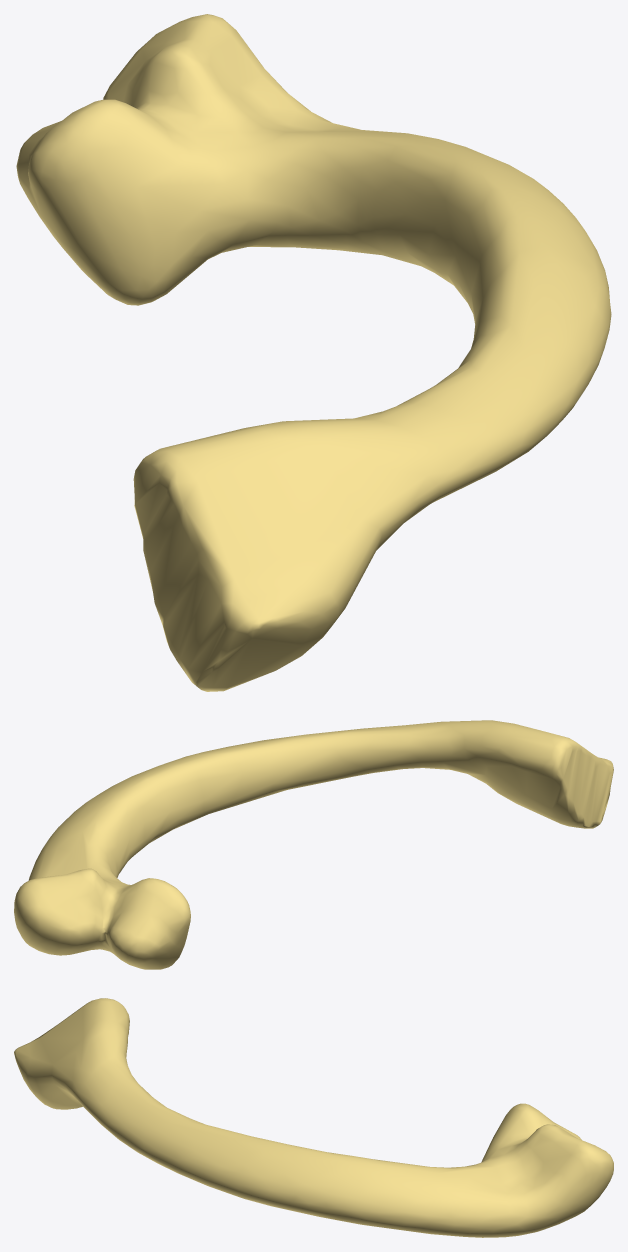
The picture shows the model from 3 angles, top to bottom: view 1: azimuth 30°, elevation 25°; view 2: azimuth 150°, elevation 25°; view 3: azimuth 270°, elevation 25°; orthographic projection. The views are drawn at different scales.
Visible parts, largest first — view 1: ZA_b97f7aa5884d63ca; view 2: ZA_b97f7aa5884d63ca; view 3: ZA_b97f7aa5884d63ca.
Part boxes in pixels (x1,y1,x2,y2): ZA_b97f7aa5884d63ca: (16,14,611,691); ZA_b97f7aa5884d63ca: (14,720,613,969); ZA_b97f7aa5884d63ca: (14,998,613,1237).
Size of the model in its own units: 0.0241 by 0.00779 by 0.0367.
